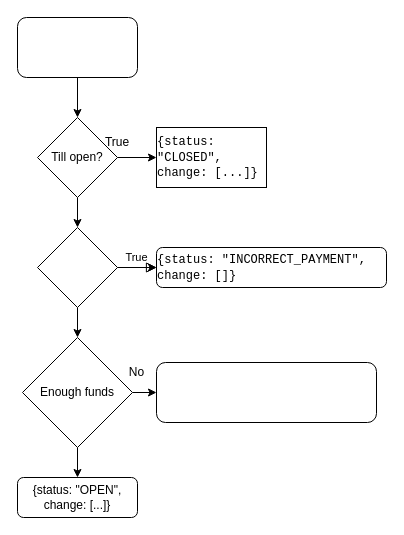
Image size: 404x535. Some labels were removed from this diagram. The shapes that lost their labels are listed below. From the top down, each one's box as (x1, y1, x2, y2) in pixels, then its label:
(16, 16, 138, 78): calculate change
(36, 226, 118, 308): Payment incorrect?
(156, 362, 376, 422): {status: "INSUFFICIENT_FUNDS", change: []}
